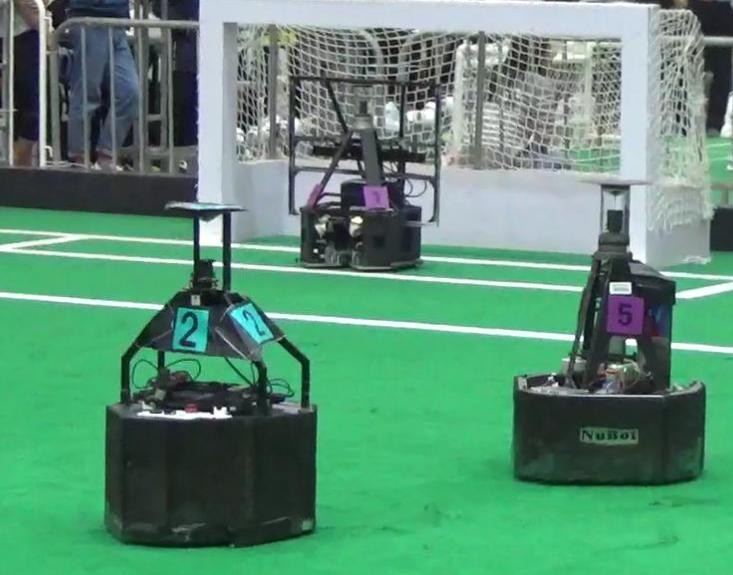robot: (74, 185, 334, 554), (505, 156, 710, 490), (289, 74, 432, 280)
